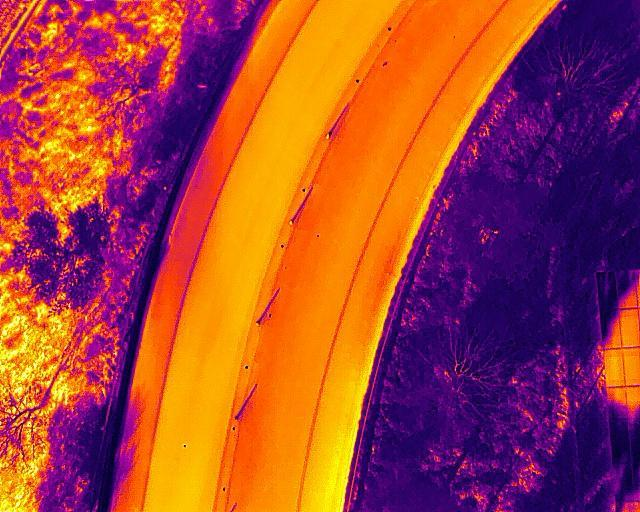No-Anomaly: (621, 308, 639, 349), (605, 349, 623, 388), (624, 346, 640, 388)
Shadowing: (600, 306, 621, 348), (618, 267, 638, 310), (599, 269, 619, 307)
